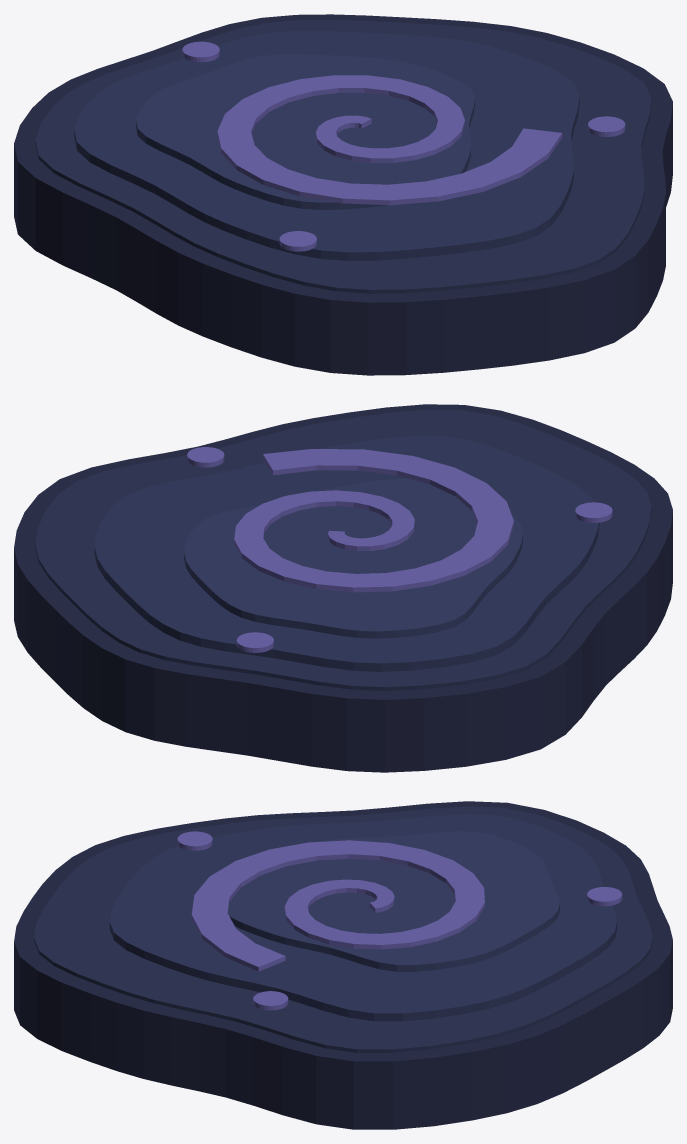
The model's file is book_orbe.fbx.
3 renders of one model, top to bottom at view 1: azimuth 30°, elevation 25°; view 2: azimuth 150°, elevation 25°; view 3: azimuth 270°, elevation 25°, orthographic. The views are drawn at different scales.
Visible parts, largest first — view 1: book_orbe_livro, book_orbe_livro_neon; view 2: book_orbe_livro, book_orbe_livro_neon; view 3: book_orbe_livro, book_orbe_livro_neon.
Boxes of the visible parts, <box> form: book_orbe_livro: <box>14,14,672,375</box>; book_orbe_livro_neon: <box>182,41,625,251</box>; book_orbe_livro: <box>14,404,672,772</box>; book_orbe_livro_neon: <box>187,447,612,652</box>; book_orbe_livro: <box>14,801,672,1129</box>; book_orbe_livro_neon: <box>177,831,622,1010</box>.
Bounding box in the file's own units: 2.45 × 0.405 × 2.62.
1 material, 1 textured.
